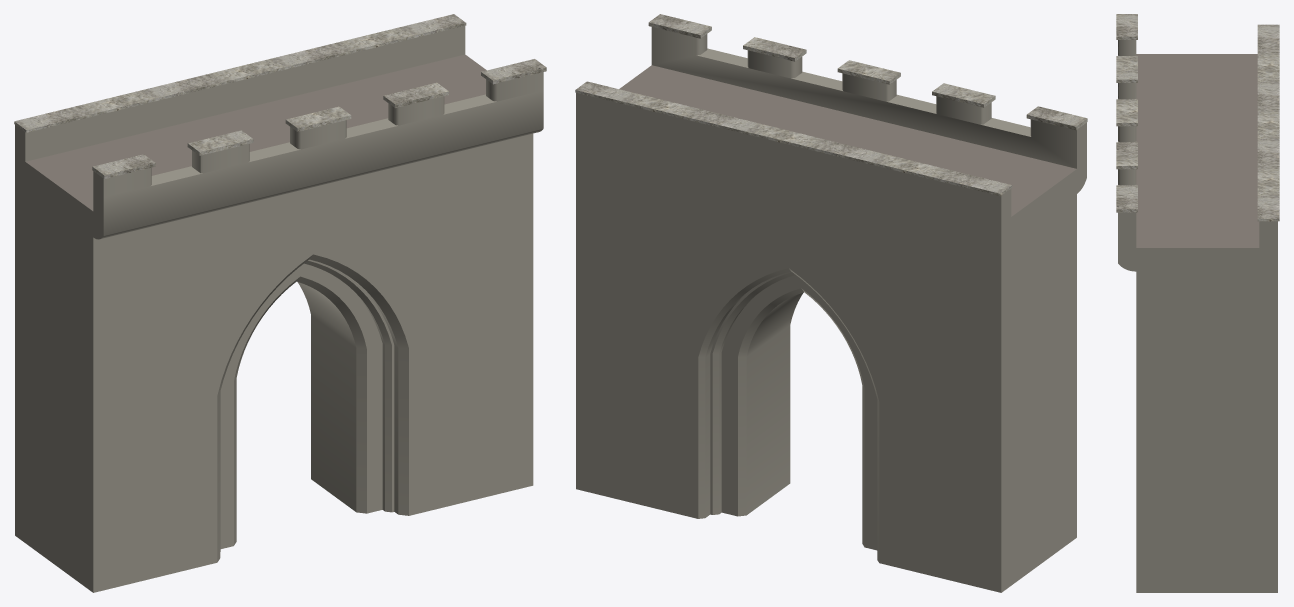
The model's file is Gate_2.fbx.
3 renders of one model, left to right at view 1: azimuth 30°, elevation 25°; view 2: azimuth 150°, elevation 25°; view 3: azimuth 270°, elevation 25°, orthographic. The views are drawn at different scales.
Visible parts, largest first — view 1: Model; view 2: Model; view 3: Model.
Boxes of the visible parts, left/top/right/bottom form: Model: left=14, top=14, right=546, bottom=592; Model: left=575, top=14, right=1087, bottom=592; Model: left=1116, top=14, right=1279, bottom=592.
Size of the model in its own units: 27.33 by 25.13 by 9.66.
